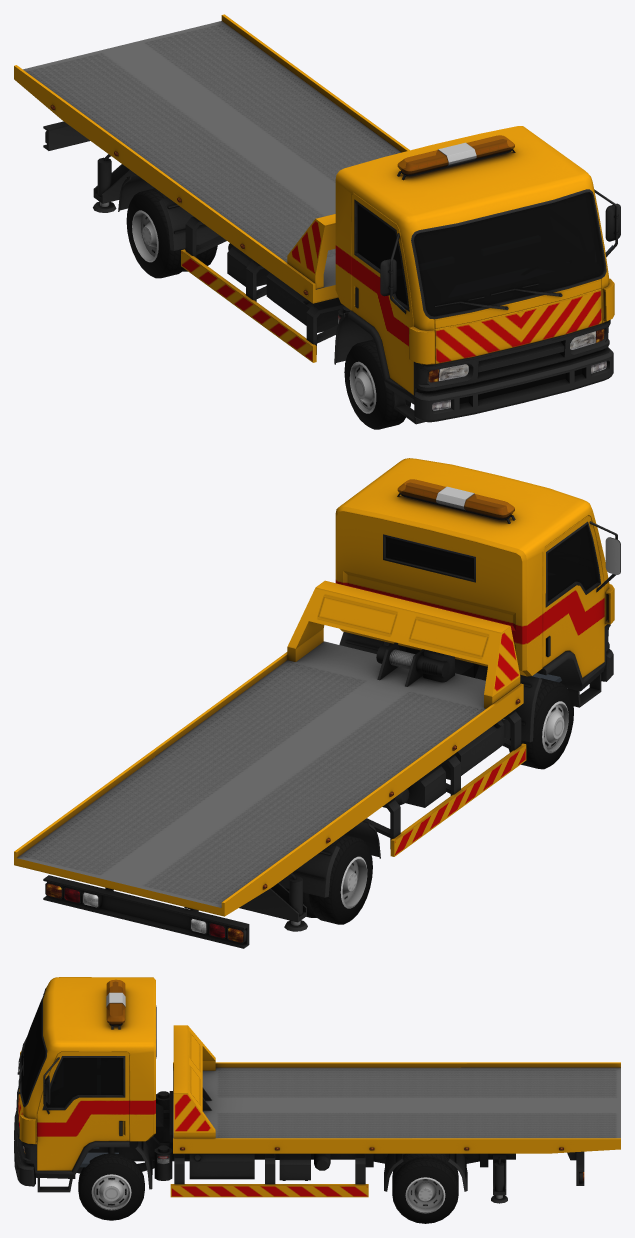
Rendered from tow.glb.
The picture shows the model from 3 angles, top to bottom: view 1: azimuth 30°, elevation 25°; view 2: azimuth 150°, elevation 25°; view 3: azimuth 270°, elevation 25°; orthographic projection. The views are drawn at different scales.
Parts seen in each view (by area): view 1: Body (×3), Door skin and glass (×3), TyreRim (×2), Lamp head; view 2: Body (×3), Door skin and glass (×2), TyreRim (×2), Lamp brake; view 3: Body (×3), Door skin and glass (×2), TyreRim (×2).
Boxes of the visible parts, x1=… form: Body (×3): x1=14, y1=14, x2=618, y2=424; Door skin and glass (×3): x1=356, y1=180, x2=620, y2=395; TyreRim (×2): x1=126, y1=188, x2=410, y2=429; Lamp head: x1=405, y1=142, x2=606, y2=410; Body (×3): x1=14, y1=458, x2=620, y2=948; Door skin and glass (×2): x1=547, y1=509, x2=620, y2=680; TyreRim (×2): x1=285, y1=678, x2=573, y2=924; Lamp brake: x1=46, y1=883, x2=267, y2=942; Body (×3): x1=14, y1=977, x2=620, y2=1203; Door skin and glass (×2): x1=32, y1=1047, x2=122, y2=1170; TyreRim (×2): x1=78, y1=1153, x2=458, y2=1223.
Bounding box in the file's own units: 2.23 × 2.24 × 6.5.
Materials: 7 (6 with a texture image).
